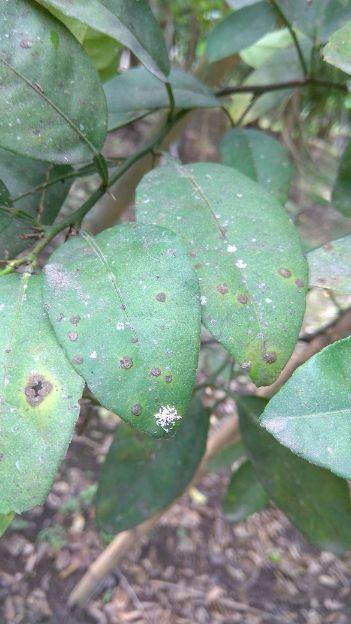Myzus persicae: (155, 406, 181, 432), (236, 260, 246, 268), (227, 244, 236, 252), (117, 321, 124, 330), (91, 351, 96, 358)
